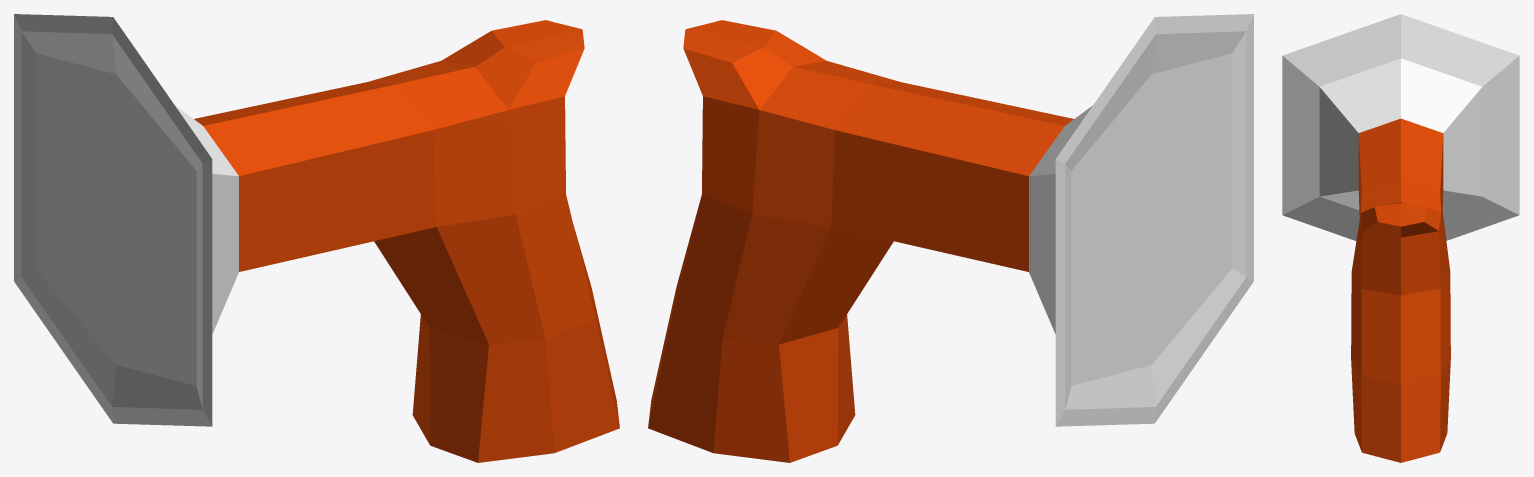
File: Suction Gun.fbx
3 renders of one model, left to right at view 1: azimuth 30°, elevation 25°; view 2: azimuth 150°, elevation 25°; view 3: azimuth 270°, elevation 25°, orthographic. The views are drawn at different scales.
Parts seen in each view (by area): view 1: Cube; view 2: Cube; view 3: Cube.
Part boxes in pixels (x1,y1,x2,y2): Cube: [14, 14, 619, 462]; Cube: [648, 14, 1253, 462]; Cube: [1282, 14, 1519, 462].
Bounding box in the file's own units: 827 × 807 × 564.
